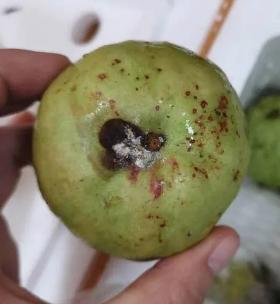guava_B: (31, 41, 251, 263)
